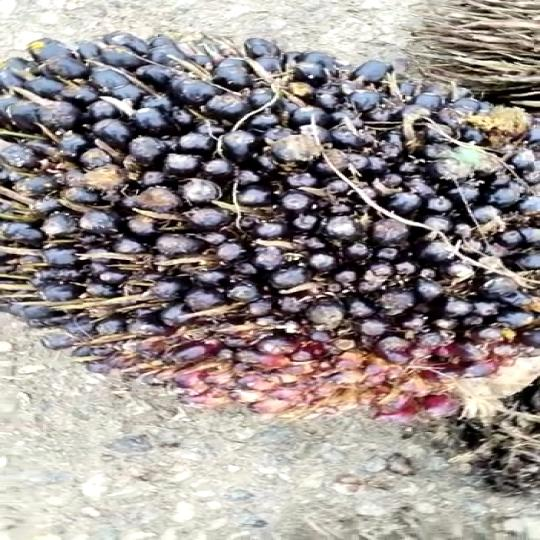mentah: (0, 31, 540, 405)
